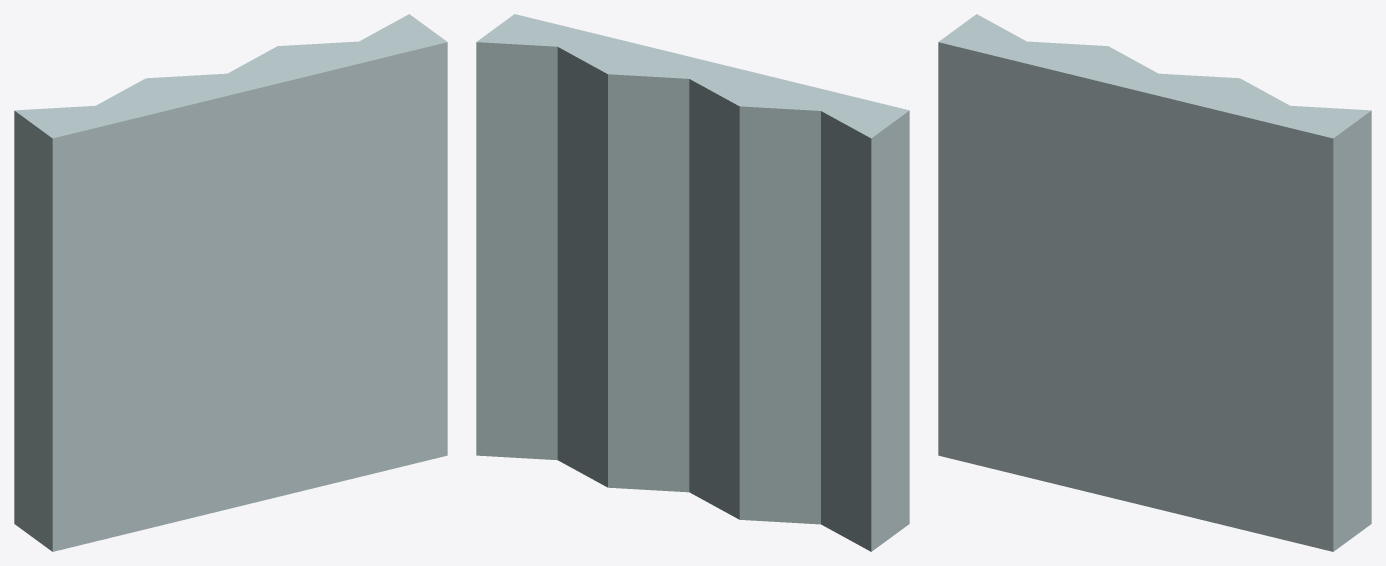
The model's file is cliff_stone.glb.
3 views of the same model, side by side, from view 1: azimuth 30°, elevation 25°; view 2: azimuth 150°, elevation 25°; view 3: azimuth 330°, elevation 25° (orthographic).
Parts seen in each view (by area): view 1: cliff_stone; view 2: cliff_stone; view 3: cliff_stone.
Part boxes in pixels (x1,y1,x2,y2): cliff_stone: (14, 14, 447, 551); cliff_stone: (476, 14, 909, 551); cliff_stone: (938, 14, 1371, 551).
Bounding box in the file's own units: 1 × 1 × 0.1685.
